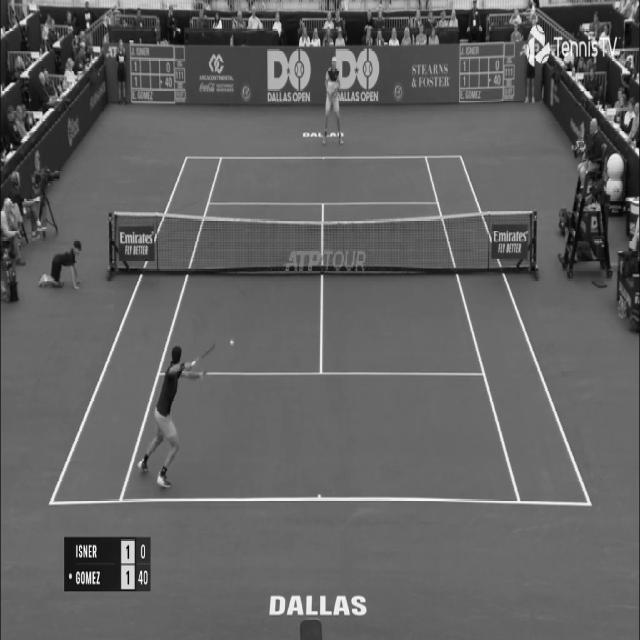tennis-court: (48, 155, 593, 506)
